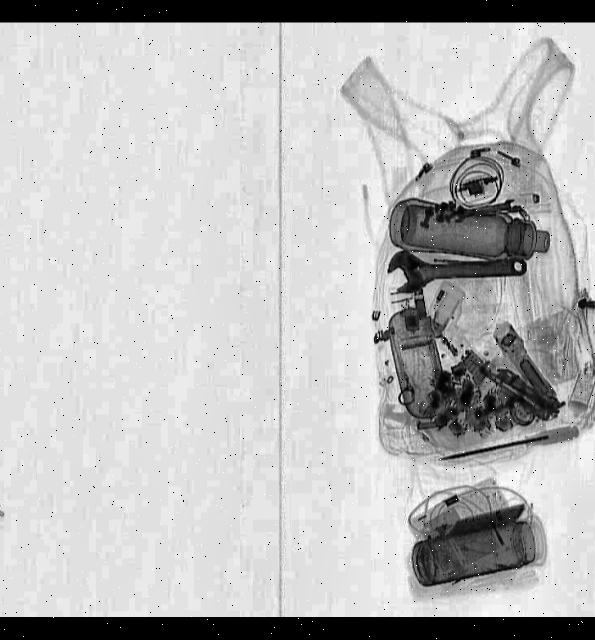Wrench: (386, 242, 525, 294)
